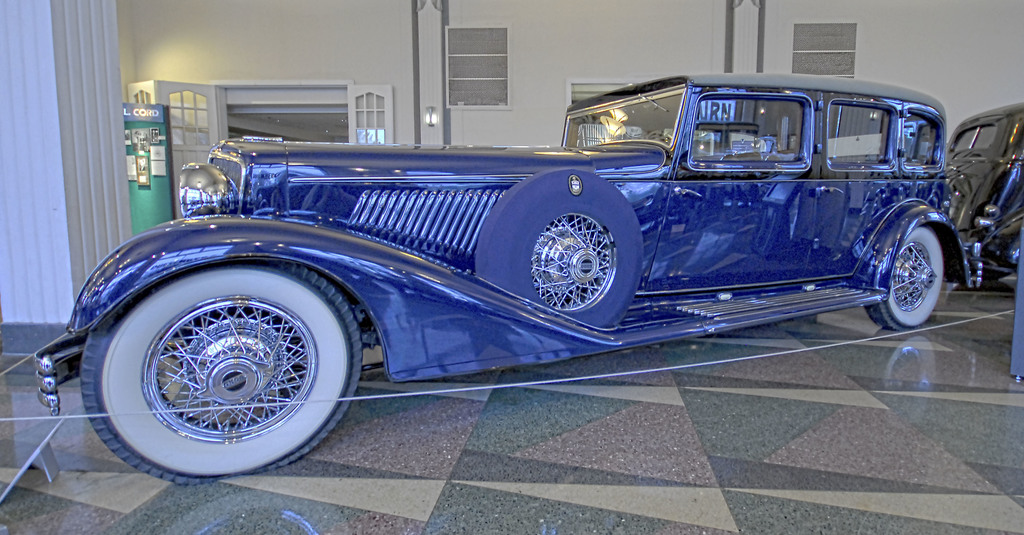Car: (35, 73, 982, 486), (946, 101, 1023, 281)
